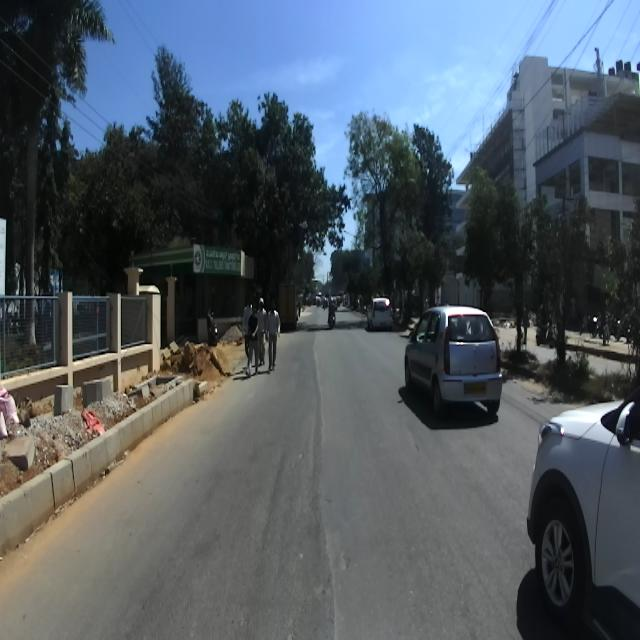car ahead at: (530, 378, 640, 624), (398, 296, 512, 424)
